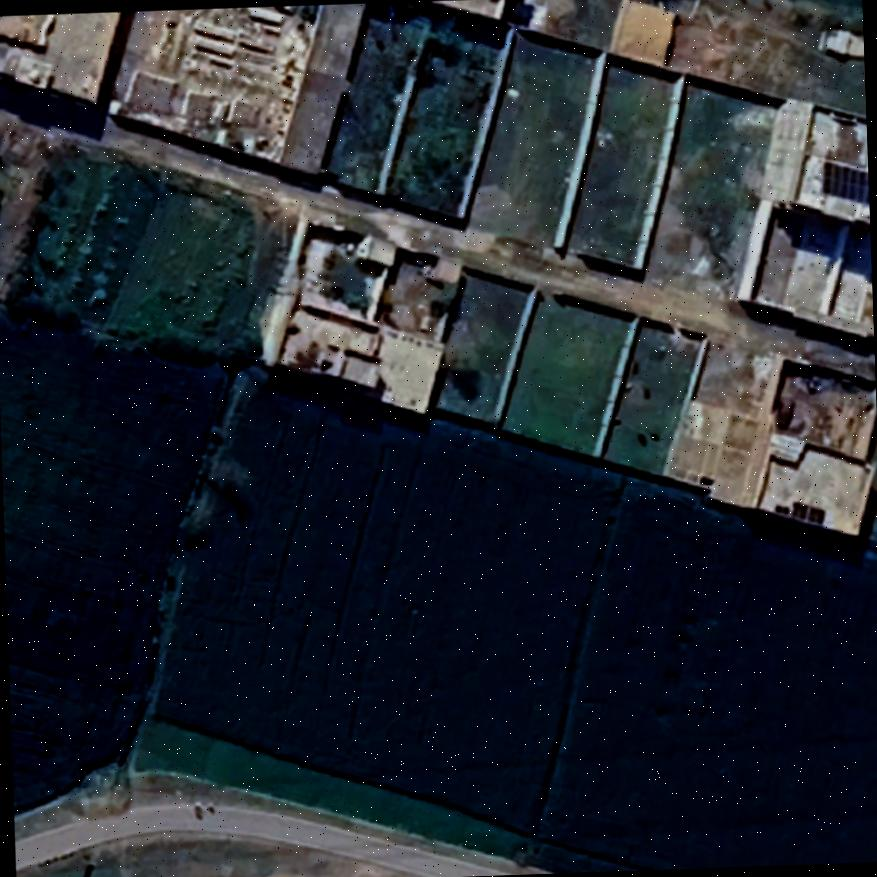Solarpanel: (816, 156, 870, 212), (770, 496, 828, 530)
